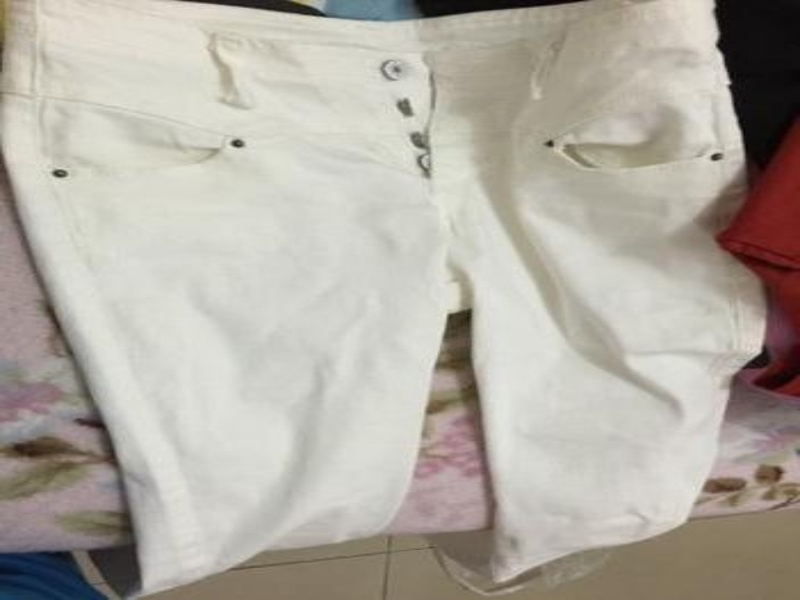trousers: (0, 0, 798, 599)
